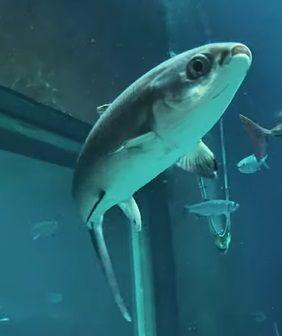Bangus: (73, 39, 252, 324)
